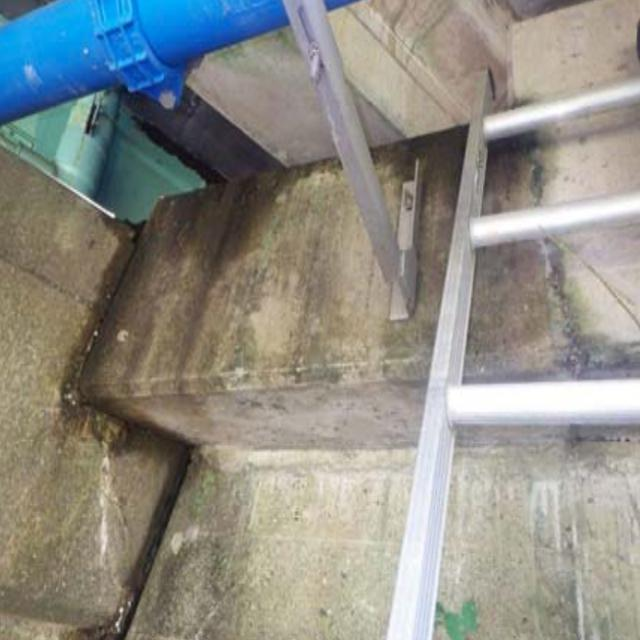leakage: (413, 86, 538, 354), (152, 163, 304, 254)
